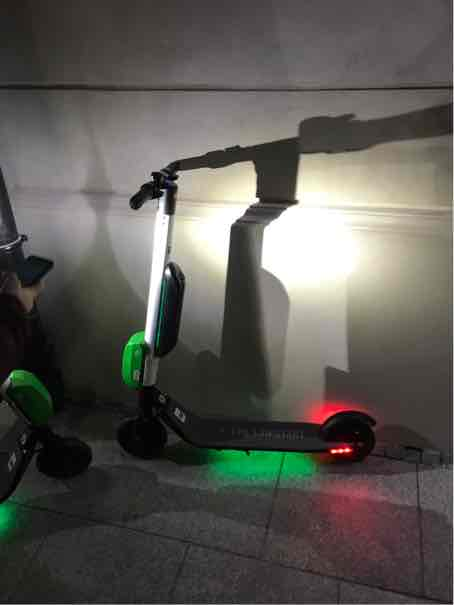scooter: (104, 137, 390, 472)
